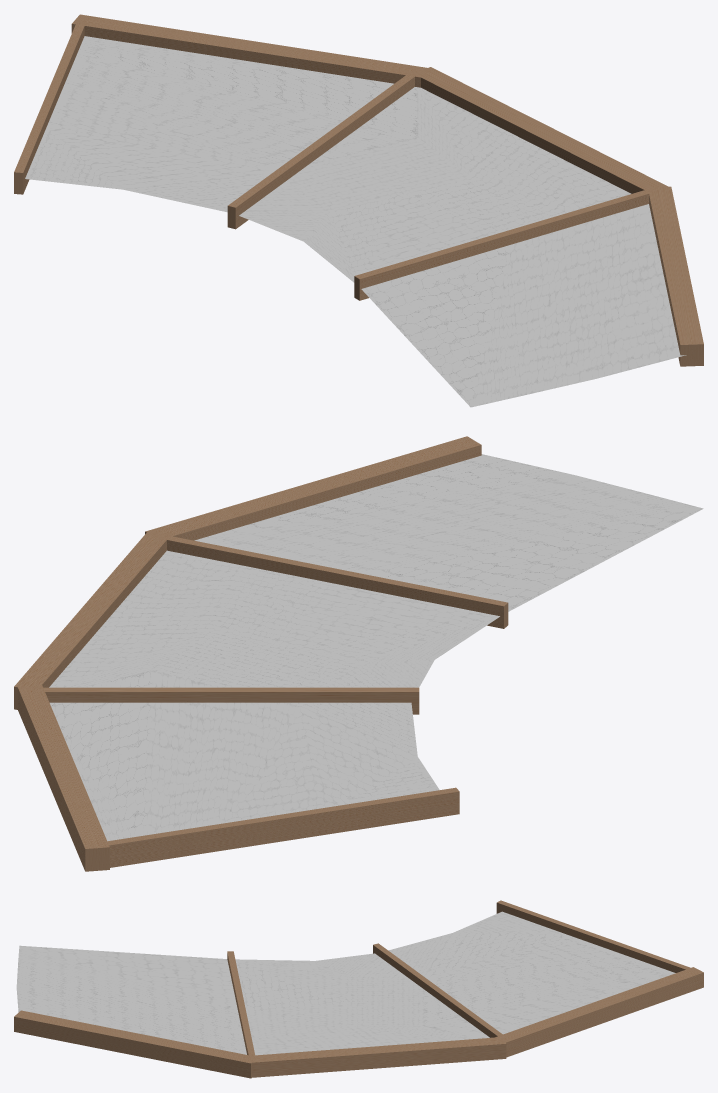
The model's file is CuerAlaIzq.obj.
The picture shows the model from 3 angles, top to bottom: view 1: azimuth 30°, elevation 25°; view 2: azimuth 150°, elevation 25°; view 3: azimuth 270°, elevation 25°; orthographic projection. The views are drawn at different scales.
Parts seen in each view (by area): view 1: Plane002, Box033, Box032, Box036, Box031, Box035, Box034; view 2: Plane002, Box034, Box031, Box033, Box035, Box032, Box036; view 3: Plane002, Box032, Box031, Box033, Box034, Box035, Box036.
Boxes of the visible parts, left/top/right/bottom form: Plane002: left=25, top=36, right=686, bottom=407; Box033: left=71, top=14, right=430, bottom=87; Box032: left=413, top=67, right=667, bottom=193; Box036: left=354, top=187, right=654, bottom=300; Box031: left=648, top=186, right=703, bottom=366; Box035: left=227, top=69, right=419, bottom=229; Box034: left=14, top=16, right=87, bottom=194; Plane002: left=49, top=454, right=703, bottom=841; Box034: left=88, top=787, right=459, bottom=867; Box031: left=145, top=436, right=481, bottom=540; Box033: left=17, top=685, right=109, bottom=871; Box035: left=26, top=687, right=419, bottom=714; Box032: left=14, top=530, right=171, bottom=709; Box036: left=149, top=534, right=508, bottom=628; Plane002: left=16, top=911, right=675, bottom=1055; Box032: left=246, top=1037, right=506, bottom=1077; Box031: left=14, top=1010, right=257, bottom=1078; Box033: left=493, top=967, right=703, bottom=1057; Box034: left=496, top=900, right=700, bottom=973; Box035: left=373, top=943, right=502, bottom=1037; Box036: left=227, top=951, right=254, bottom=1061.
Size of the model in its own units: 23.23 by 1 by 41.53.
2 materials, 2 textured.
